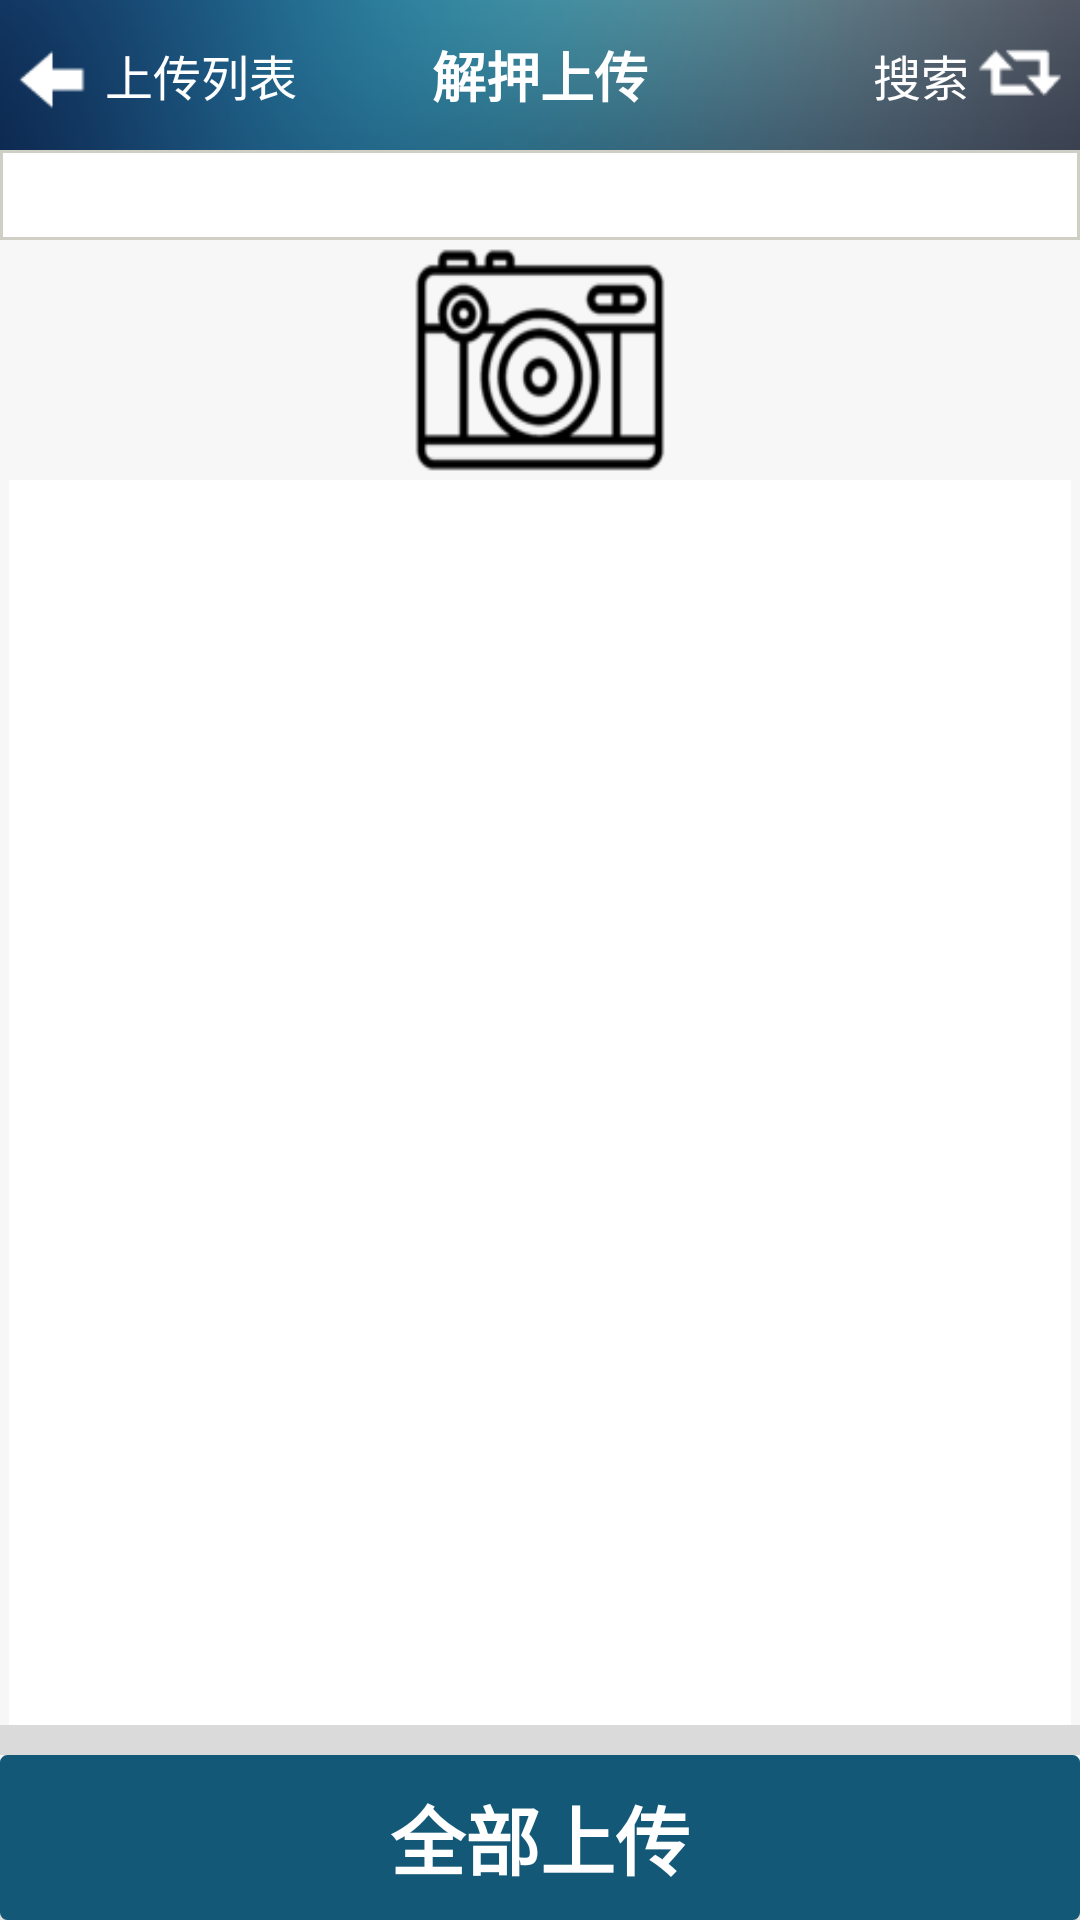

Screen size 1080x1920. Icon name, then its box in pixels as region(x1, y1, x2, y2):
info back: region(20, 51, 85, 108)
info refresh: region(979, 49, 1061, 96)
